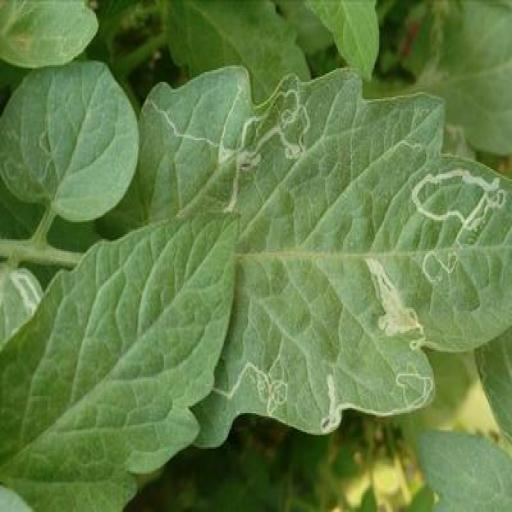Healthy: (0, 208, 239, 512)
Leaf_Miner: (135, 61, 512, 447)
